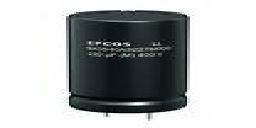Electrolytic-Capacitor: (61, 7, 194, 124)
